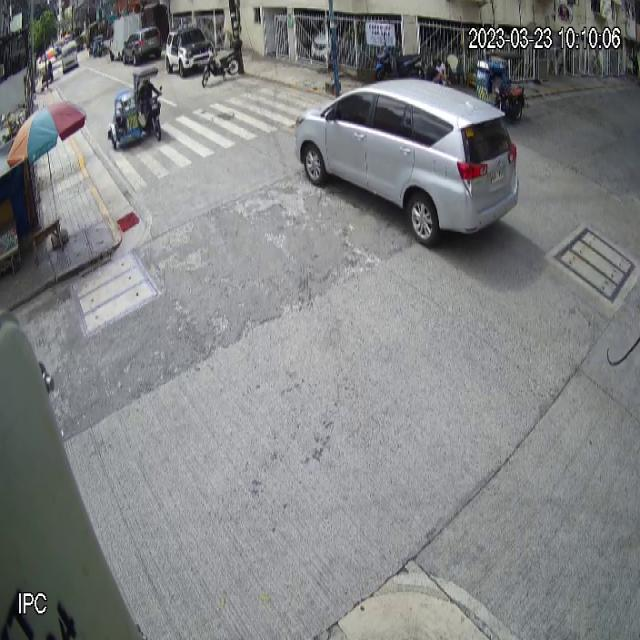Car: (294, 78, 520, 248)
Tricycle: (109, 65, 164, 150)
